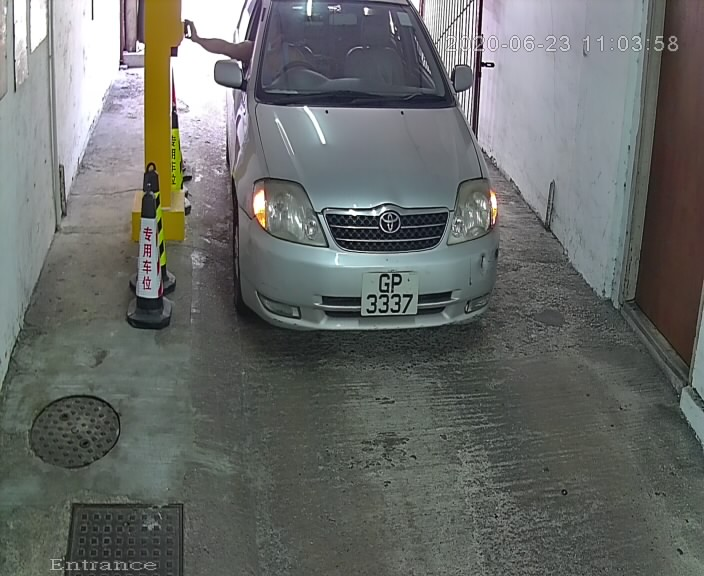privatecar: (196, 2, 531, 356)
